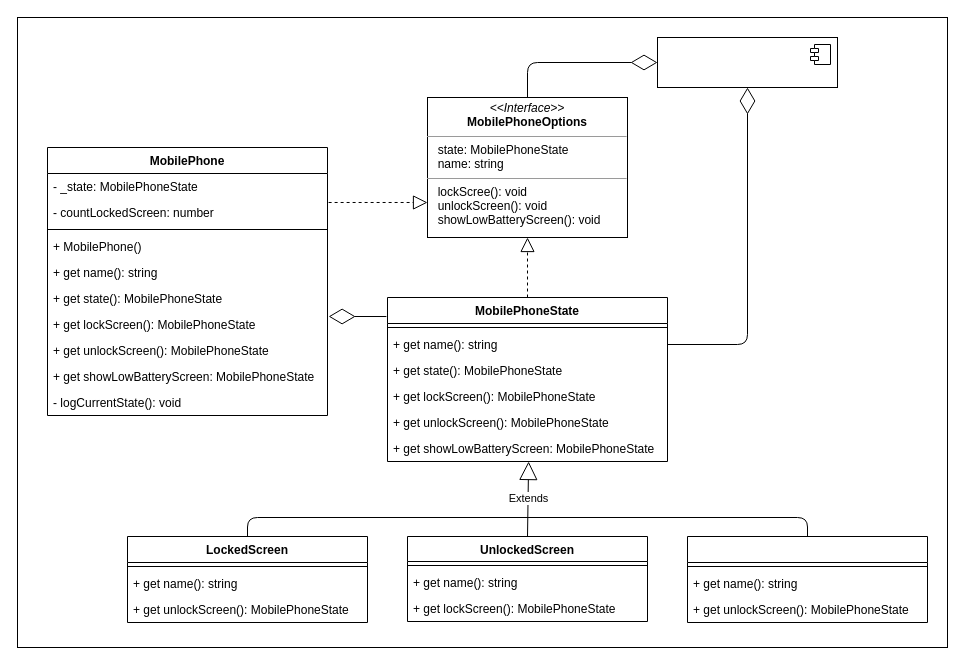
The diagram is 965 pixels wide and 665 high, and some of its shapes have lost their labels. Each missing label, with the box of its shape:
LowBatteryScreen: (686, 536, 928, 622)
State.component: (656, 36, 838, 88)
